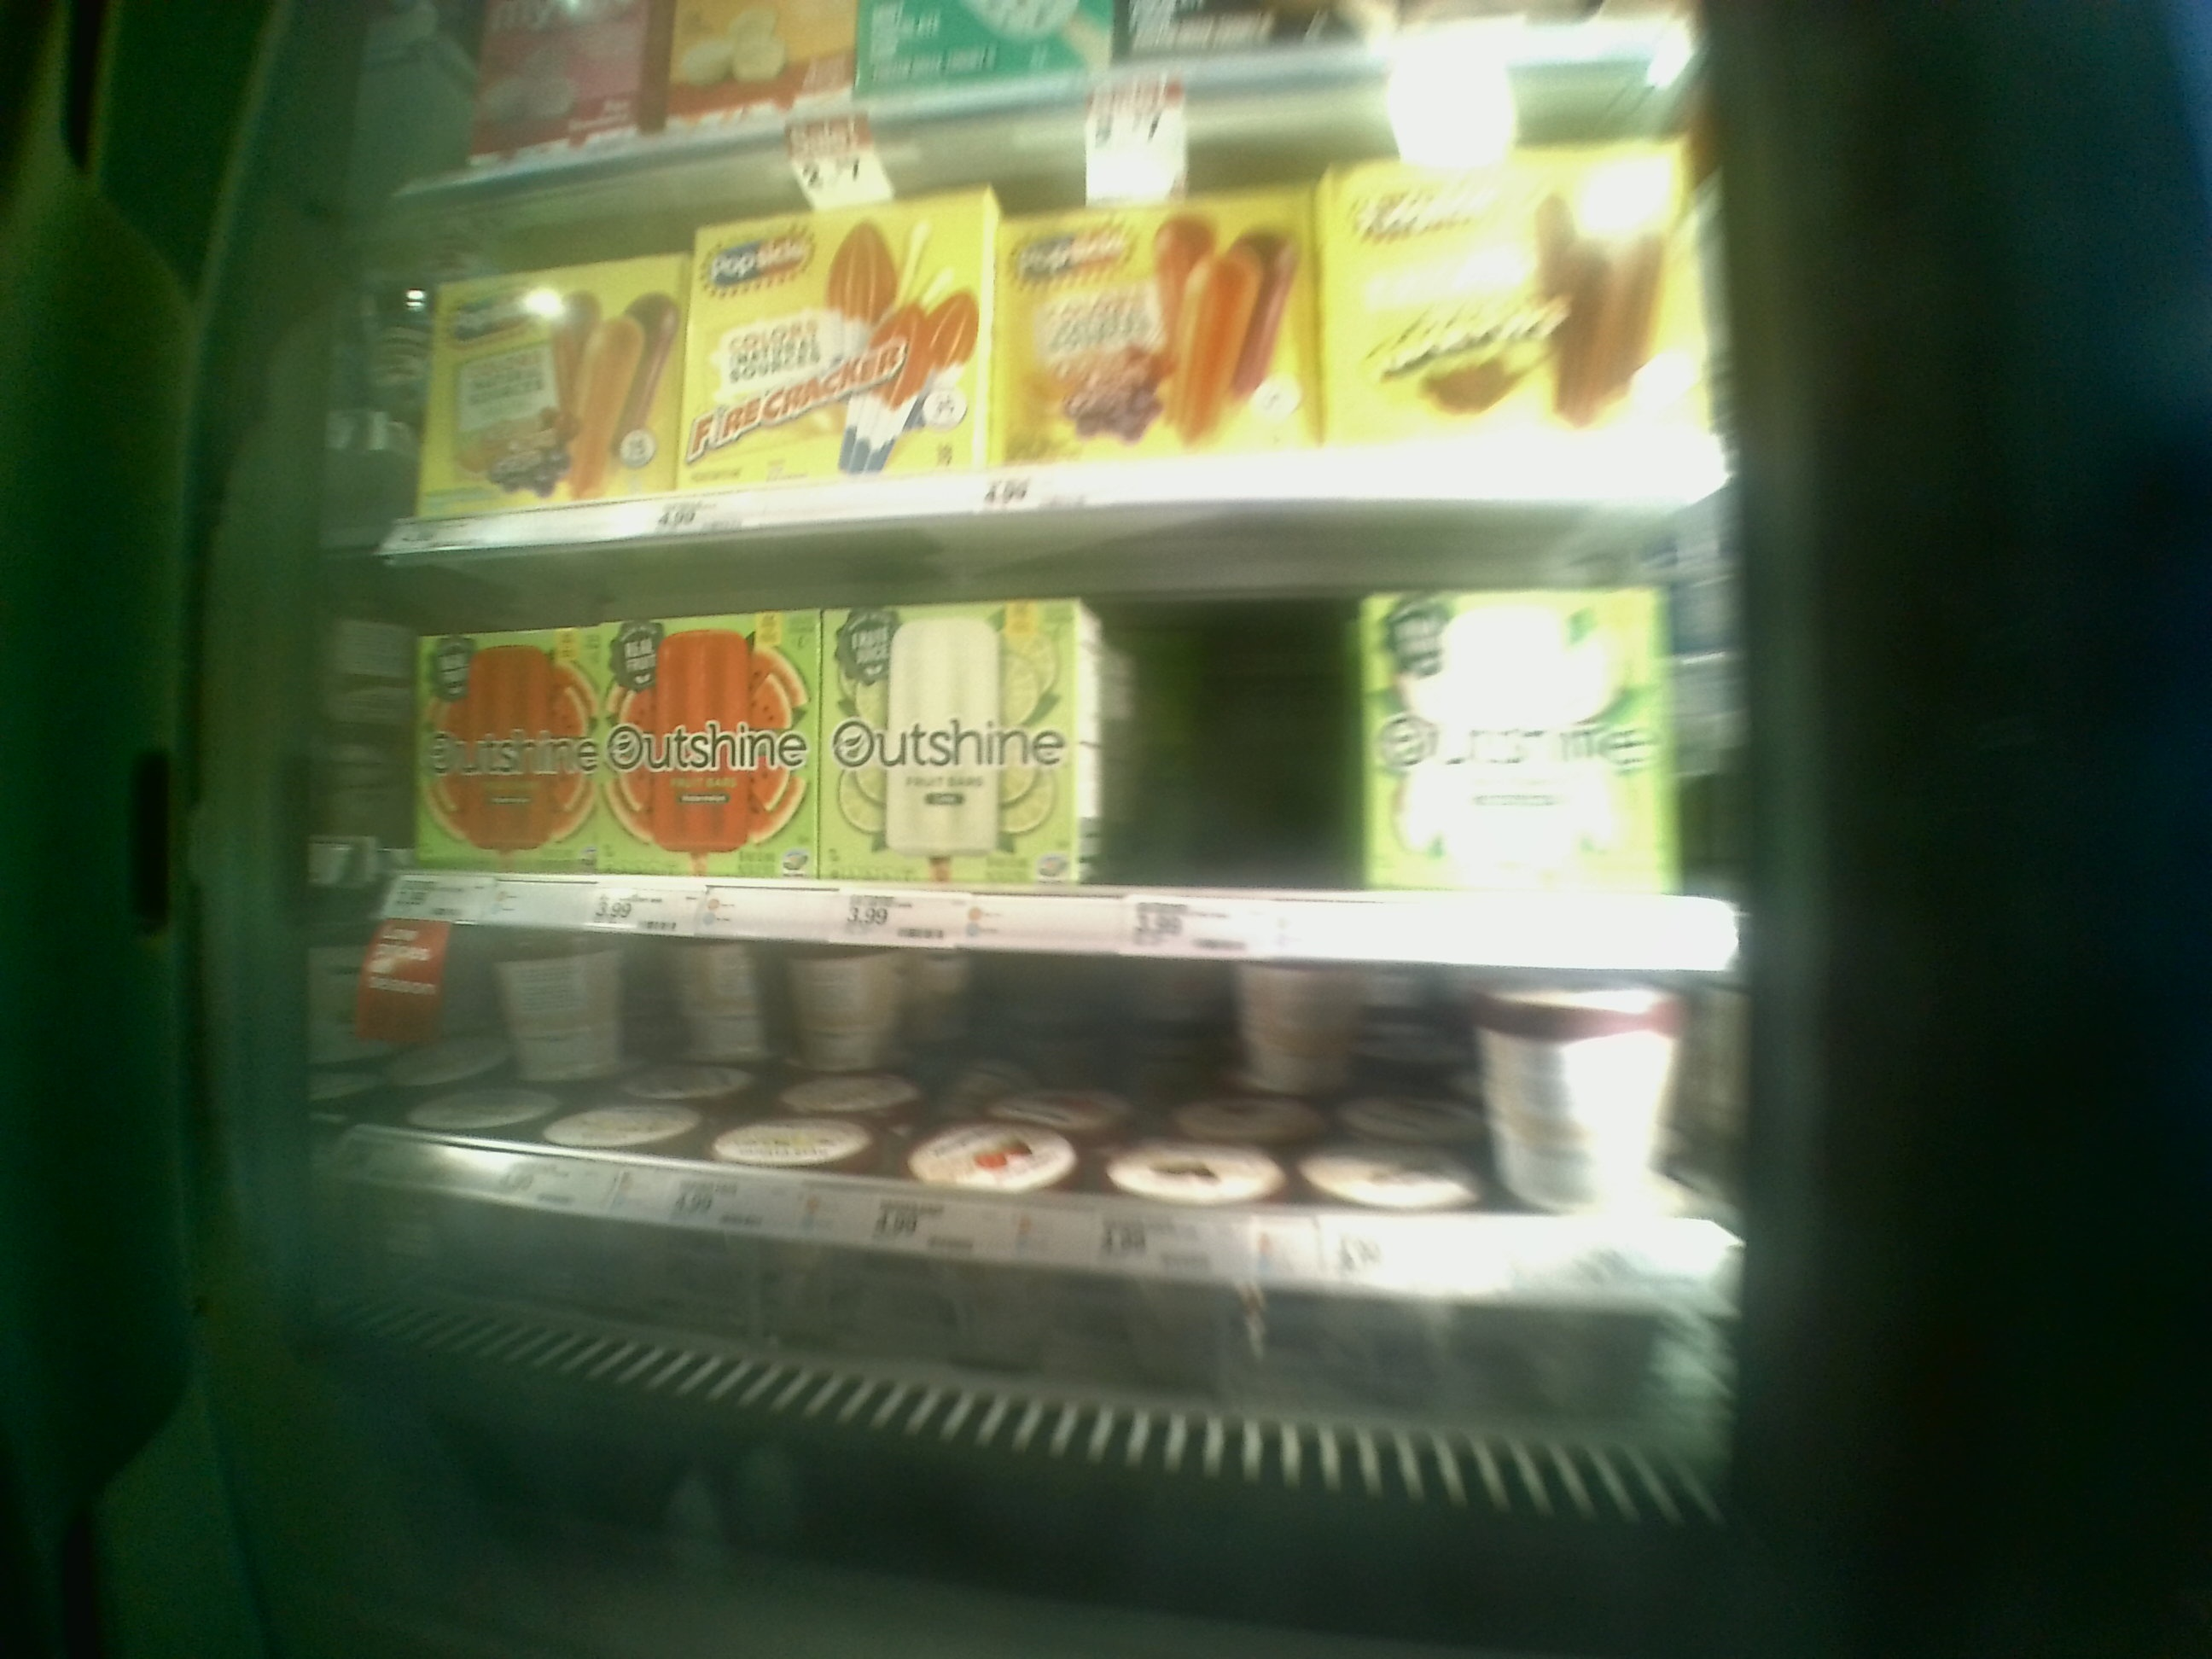ice-cream-shelf: (394, 542, 1771, 964), (394, 134, 1740, 512)
